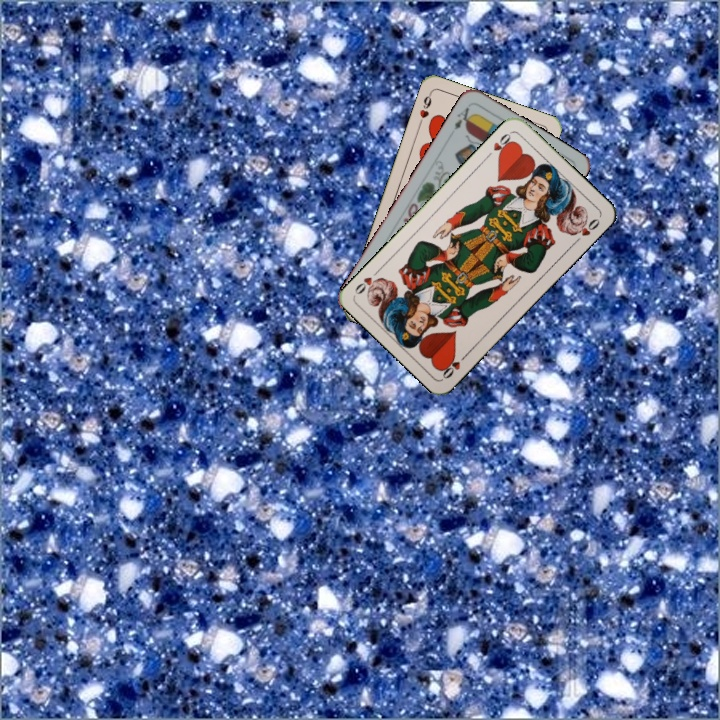EA: (450, 103, 476, 132)
H9: (414, 89, 434, 128)
HO: (437, 348, 471, 382), (482, 128, 516, 161)
